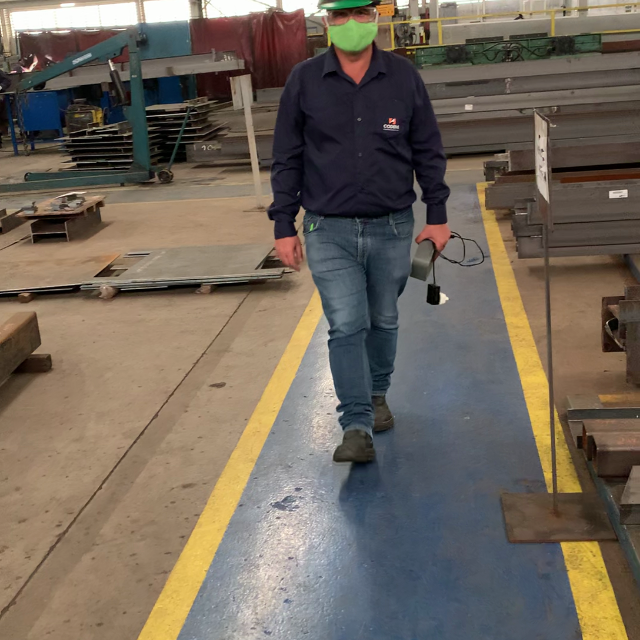eye-glass: (323, 15, 381, 25)
helmet: (317, 1, 378, 10)
mask: (328, 21, 377, 48)
person: (271, 1, 451, 463)
safety-shoe: (331, 431, 379, 462), (371, 394, 401, 433)
